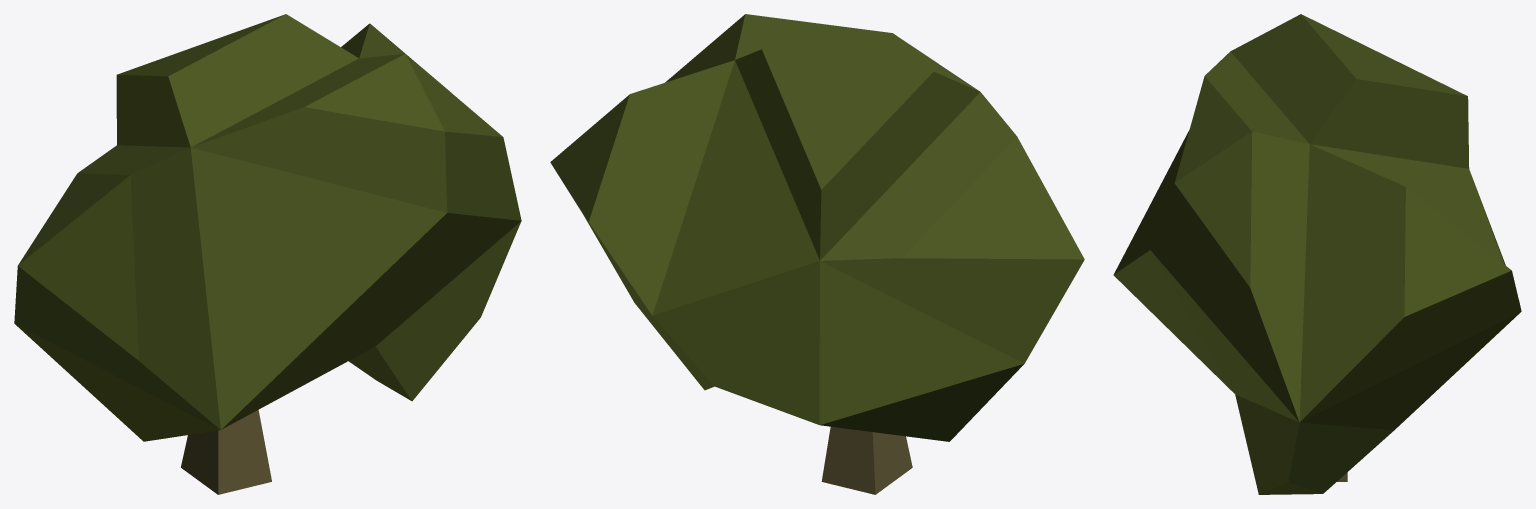
File: BushAutumn4_Alt4.fbx
3 views of the same model, side by side, from view 1: azimuth 30°, elevation 25°; view 2: azimuth 150°, elevation 25°; view 3: azimuth 270°, elevation 25° (orthographic).
Visible parts, largest first — view 1: BushAutumn4_Alt4; view 2: BushAutumn4_Alt4; view 3: BushAutumn4_Alt4.
Boxes of the visible parts, box(x1,y1,x2,y2) form: BushAutumn4_Alt4: box(14, 14, 521, 494); BushAutumn4_Alt4: box(550, 14, 1084, 494); BushAutumn4_Alt4: box(1113, 14, 1521, 494).
Size of the model in its own units: 0.4664 by 0.3748 by 0.3221.
